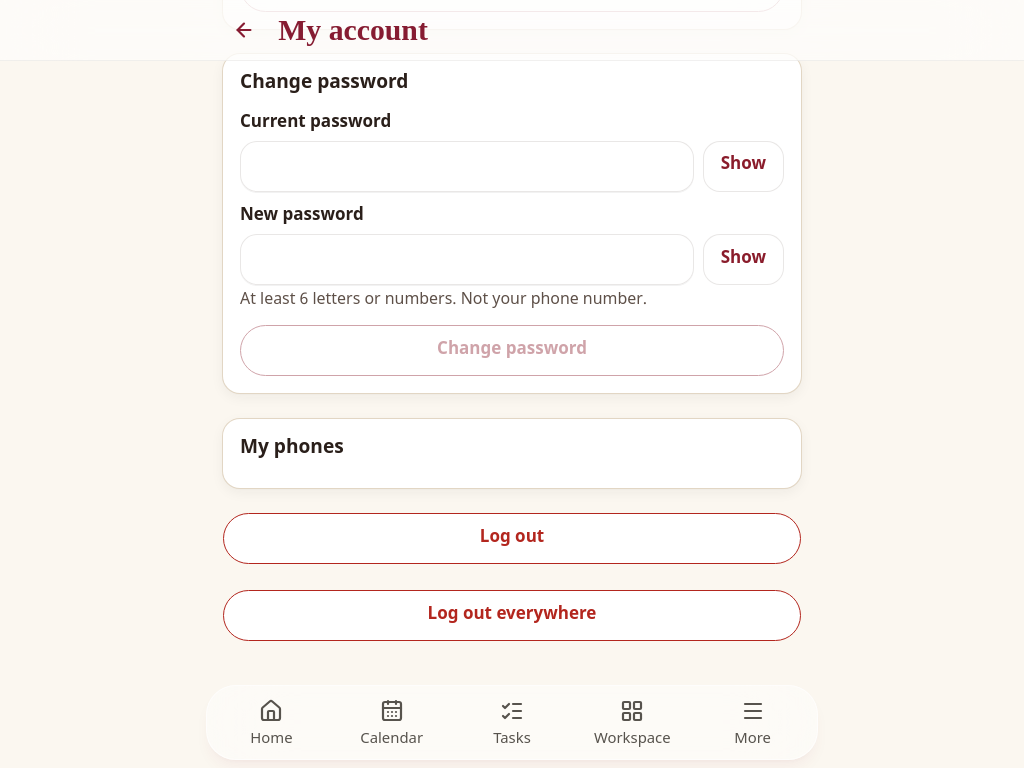
Test case: Log out with drafts › "You have 2 unsaved drafts. Log out anyway?"
(page scrolled)
Click the button "Log out": click(512, 539) [223,513,801,564]
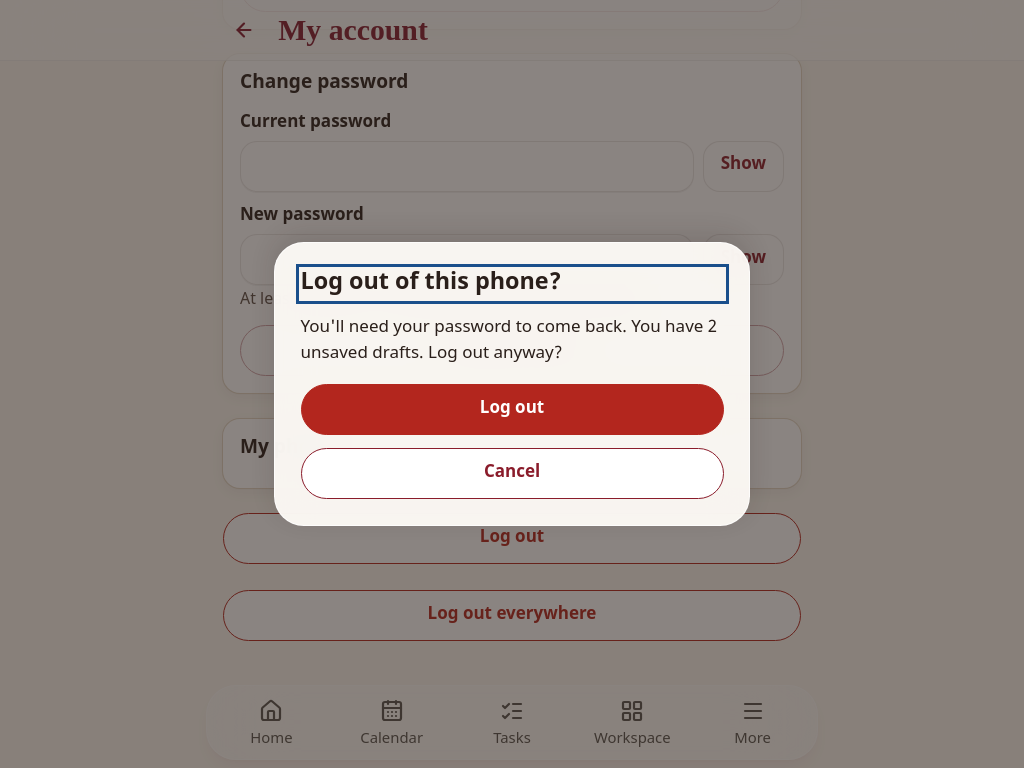
expect the text "You have 2 unsaved drafts. Log out anyway?" is shown: met, box [300,317,717,365]
